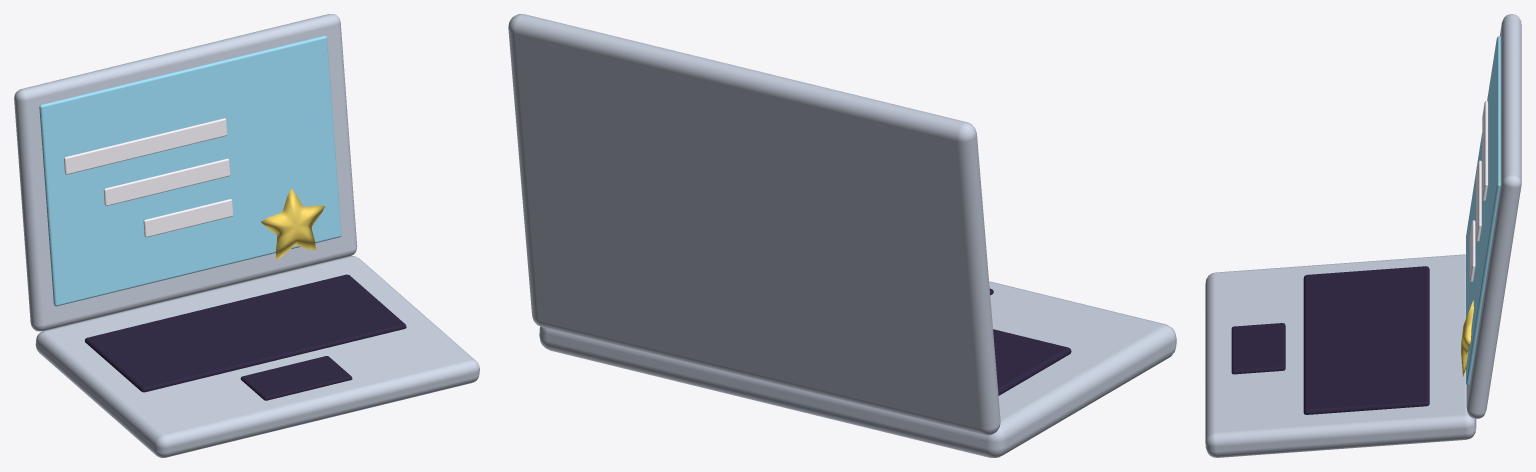
The model's file is prop-laptop.glb.
3 renders of one model, left to right at view 1: azimuth 30°, elevation 25°; view 2: azimuth 150°, elevation 25°; view 3: azimuth 270°, elevation 25°, orthographic. The views are drawn at different scales.
Parts seen in each view (by area): view 1: prop-laptop-mesh; view 2: prop-laptop-mesh; view 3: prop-laptop-mesh.
Boxes of the visible parts, x1=… form: prop-laptop-mesh: x1=14, y1=14, x2=479, y2=457; prop-laptop-mesh: x1=508, y1=14, x2=1176, y2=457; prop-laptop-mesh: x1=1205, y1=14, x2=1521, y2=457.
Size of the model in its own units: 0.44 by 0.345 by 0.3497.
